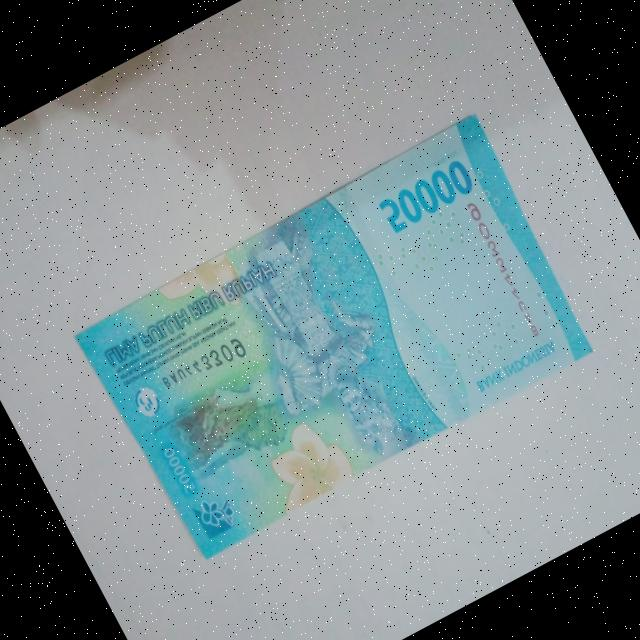50K: (58, 97, 617, 579)
